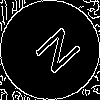N: (25, 25, 84, 83)
